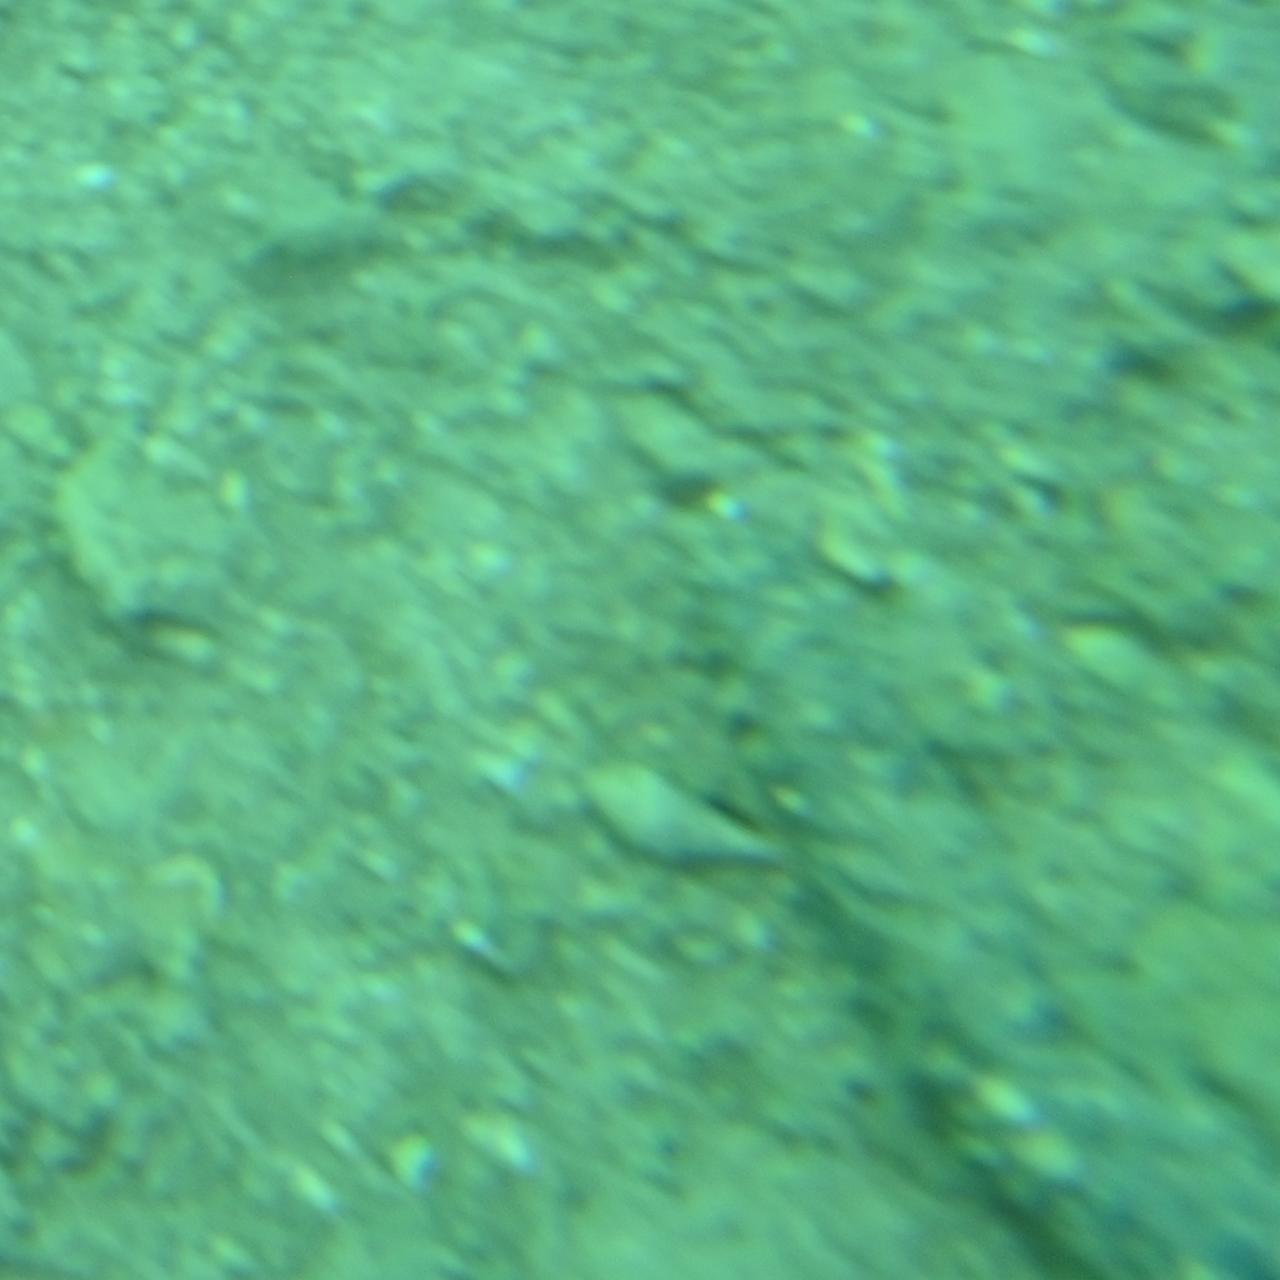Holothuria tubulosa: (656, 481, 1280, 1279)
